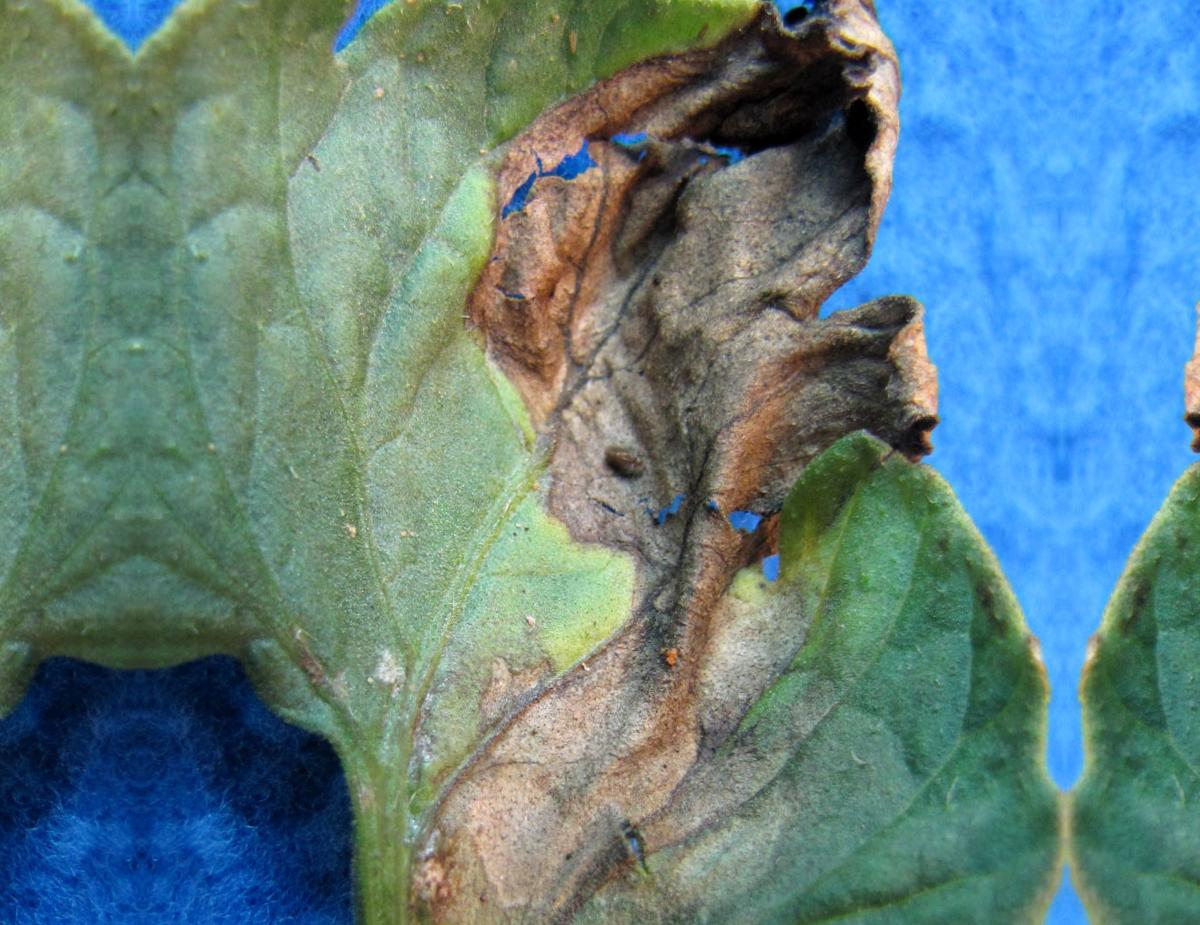Tomato leaf late blight: (148, 0, 1057, 925)
